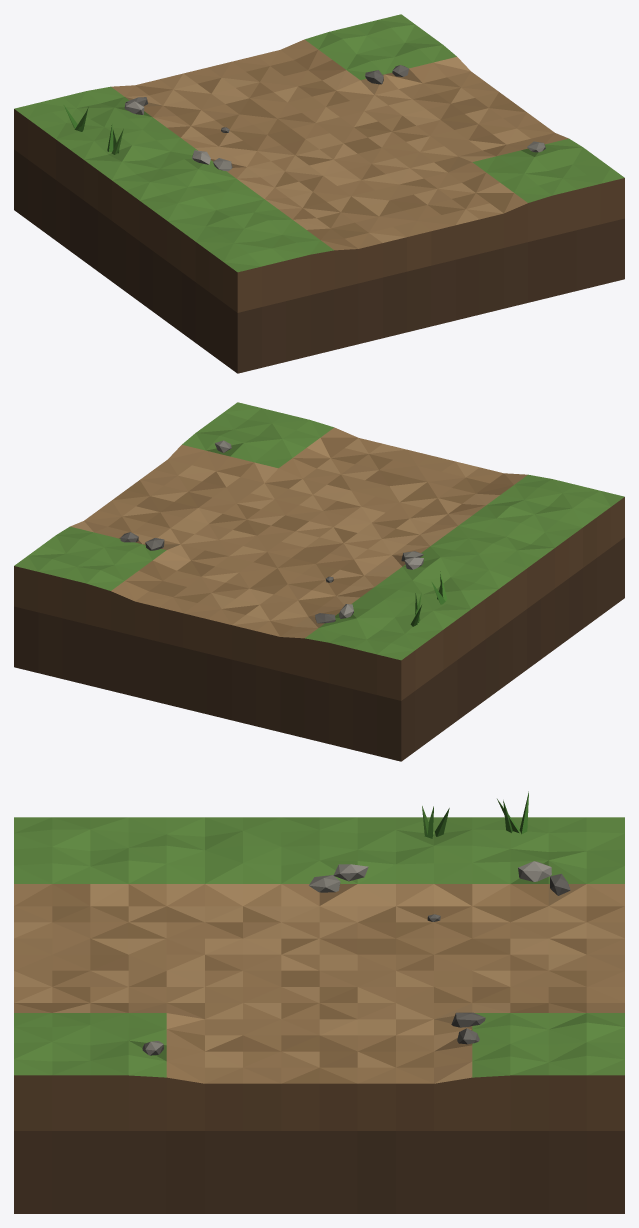
File: road_t.glb
3 views of the same model, one above another, from view 1: azimuth 30°, elevation 25°; view 2: azimuth 150°, elevation 25°; view 3: azimuth 270°, elevation 25° (orthographic). The views are drawn at different scales.
Visible parts, largest first — view 1: RoadT; view 2: RoadT; view 3: RoadT.
Boxes of the visible parts, left/top/right/bottom form: RoadT: left=14, top=14, right=624, bottom=373; RoadT: left=14, top=402, right=624, bottom=761; RoadT: left=14, top=791, right=624, bottom=1213.
Bounding box in the file's own units: 2 × 0.6375 × 2.
